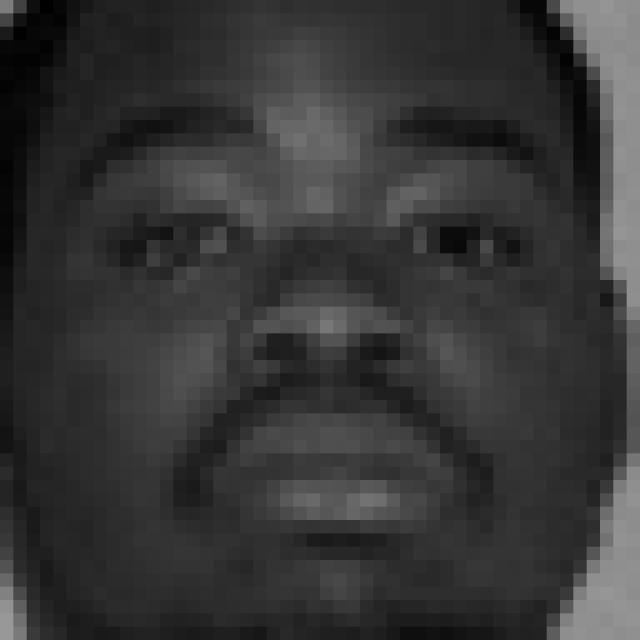neutral: (63, 86, 575, 563)
